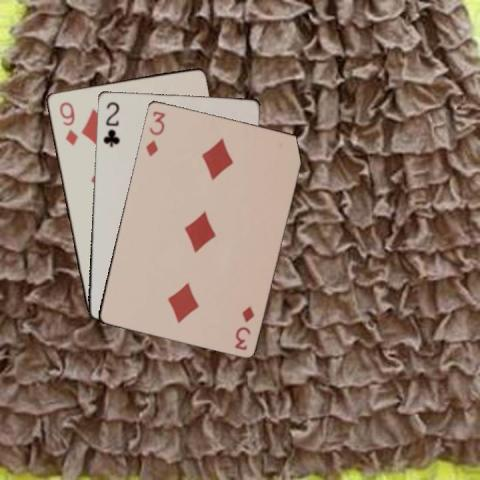2c: (99, 99, 121, 148)
3d: (142, 107, 167, 158), (232, 303, 256, 351)
9d: (56, 98, 77, 146)
